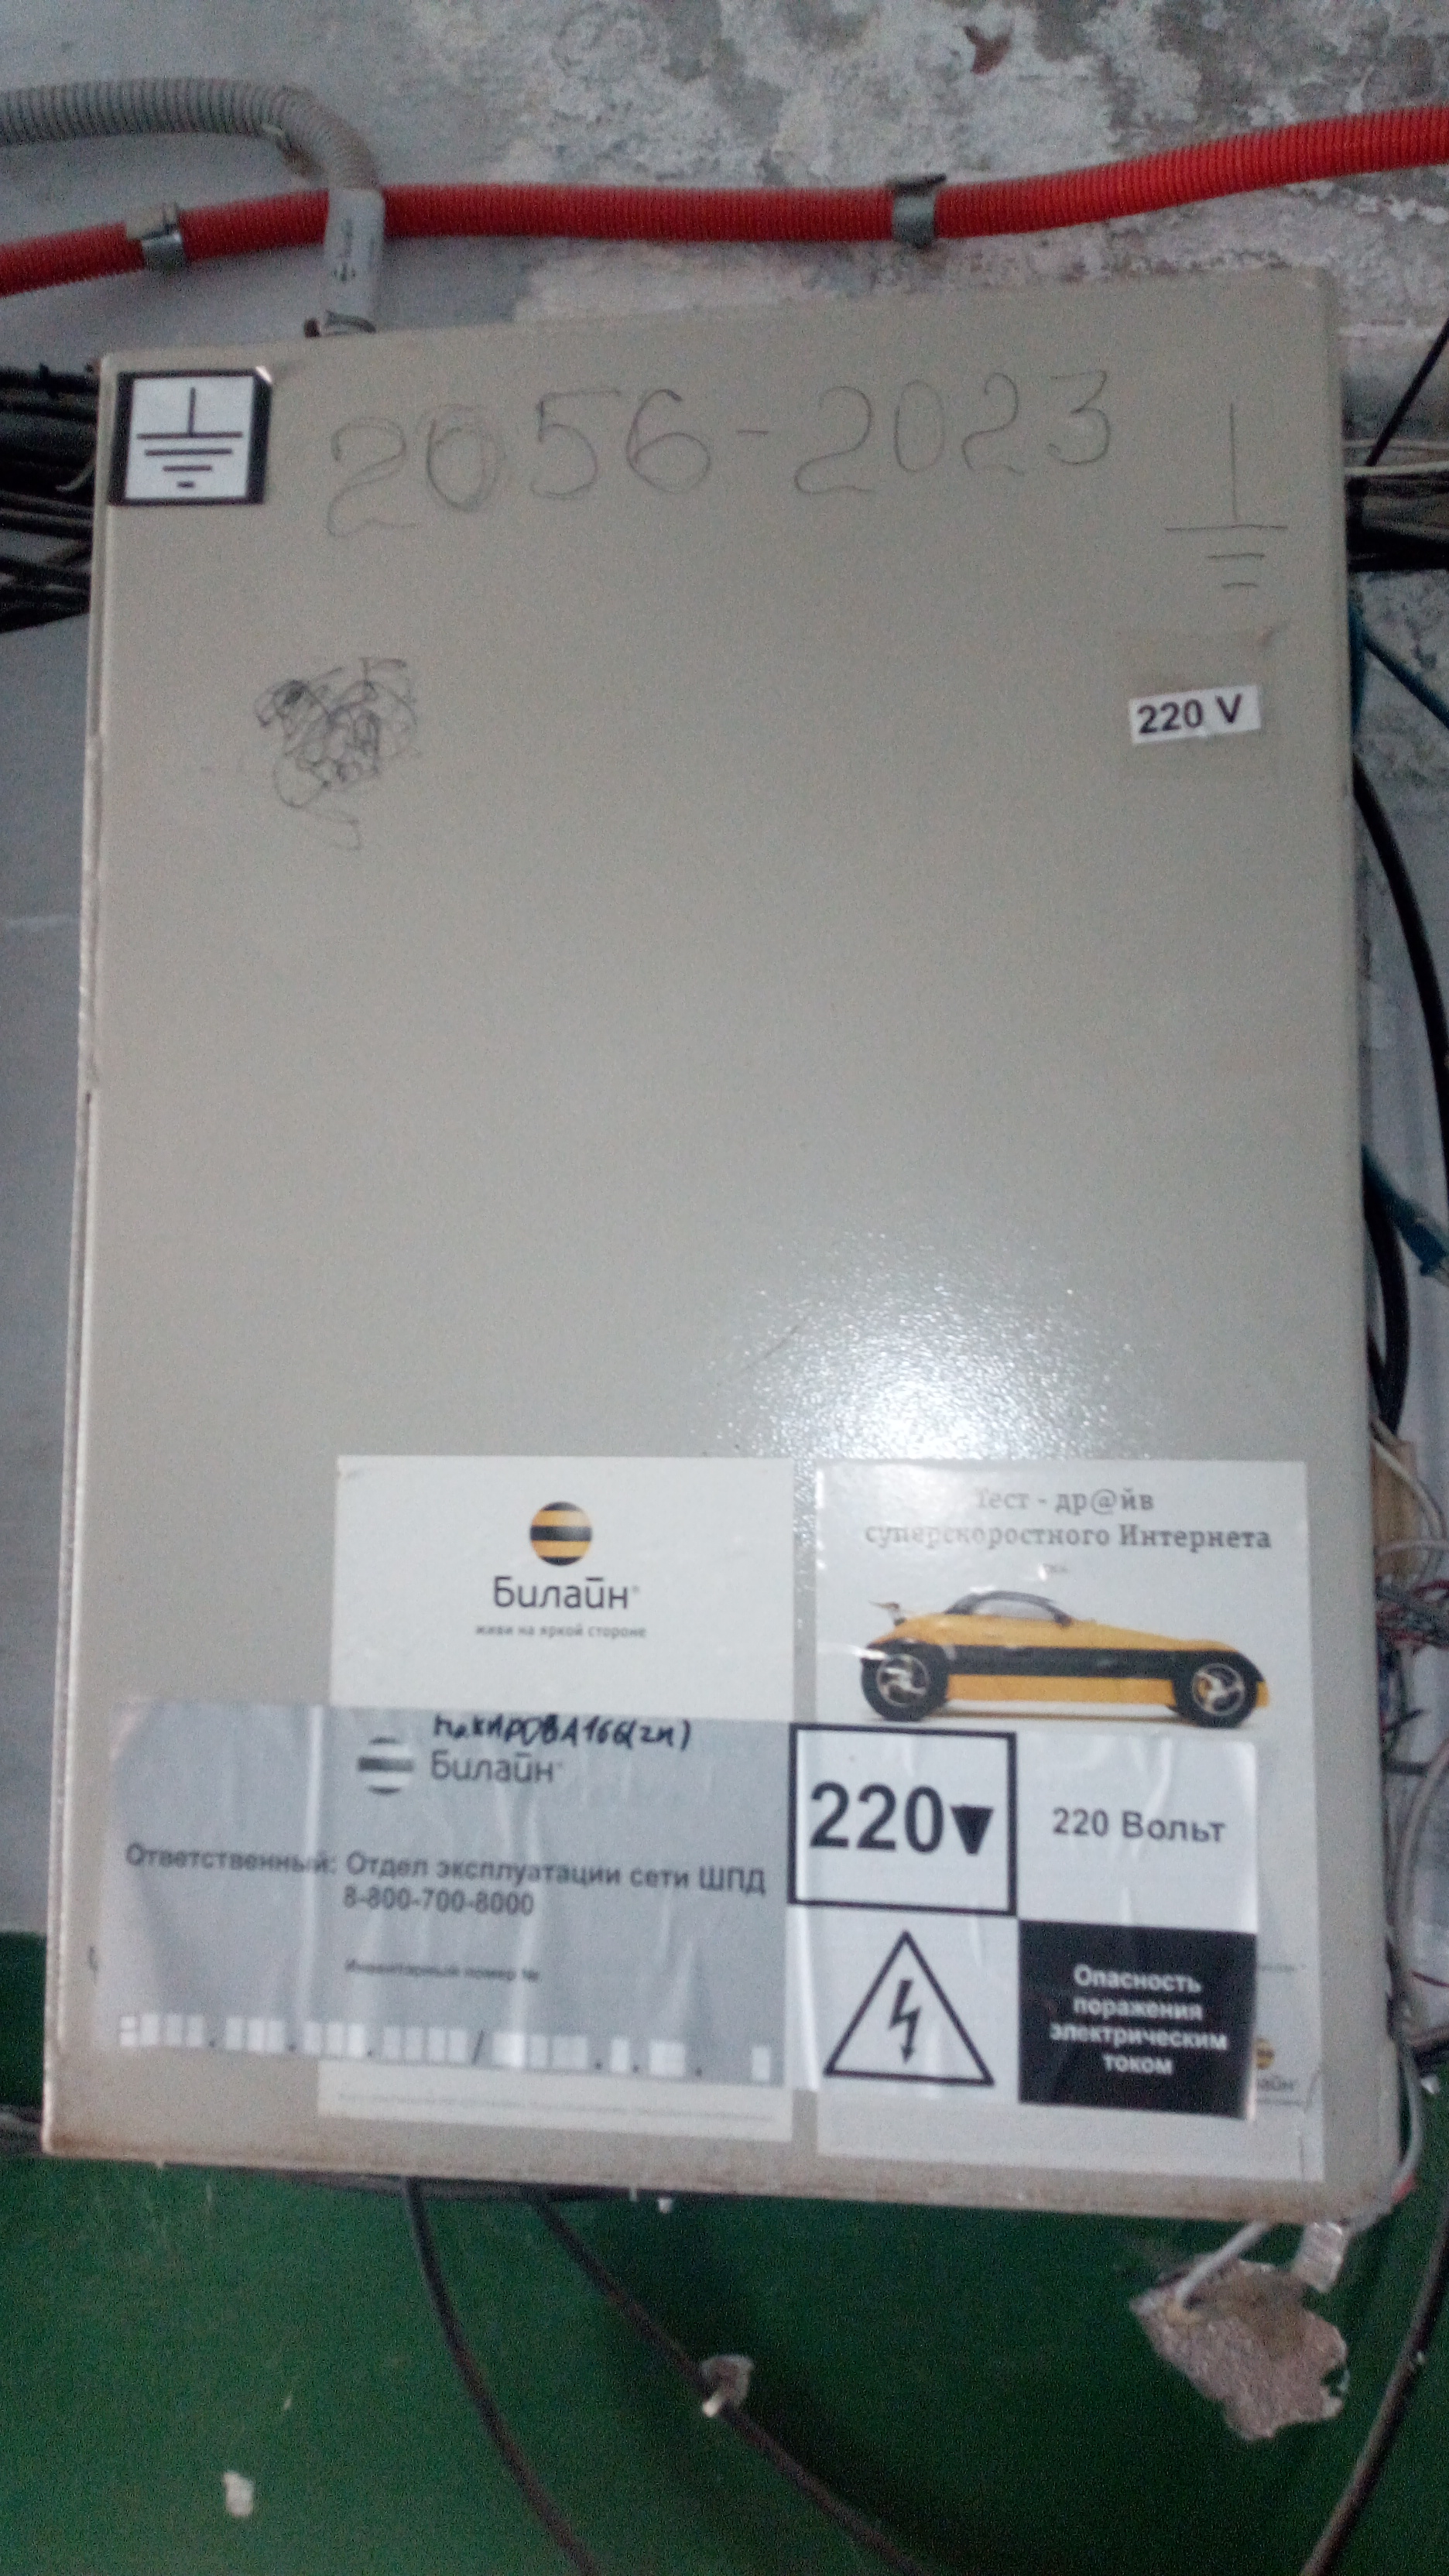sv-5: (25, 248, 1414, 2236)
